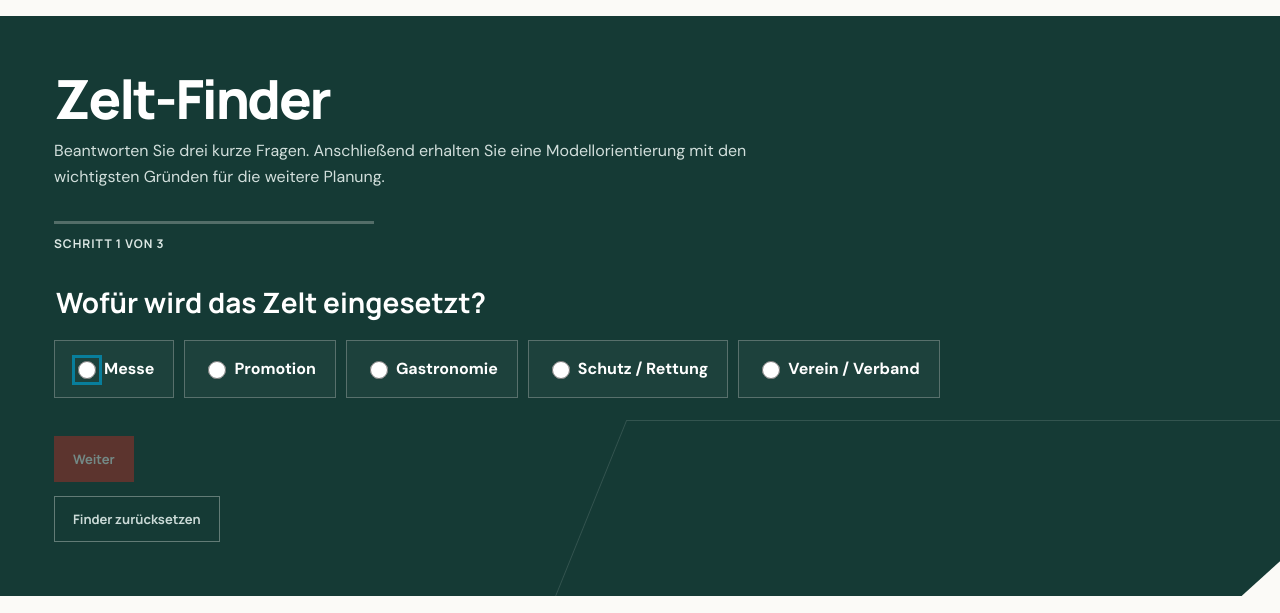
Scenario: TentFinder › nutzt echte Radiogruppen und lässt sich ohne automatisches Weiterschalten per Tastatur bedienen
This screenshot has width=1280, height=613.
Press ArrowDown in the radio button labelled "Messe", box [78,361,96,379]
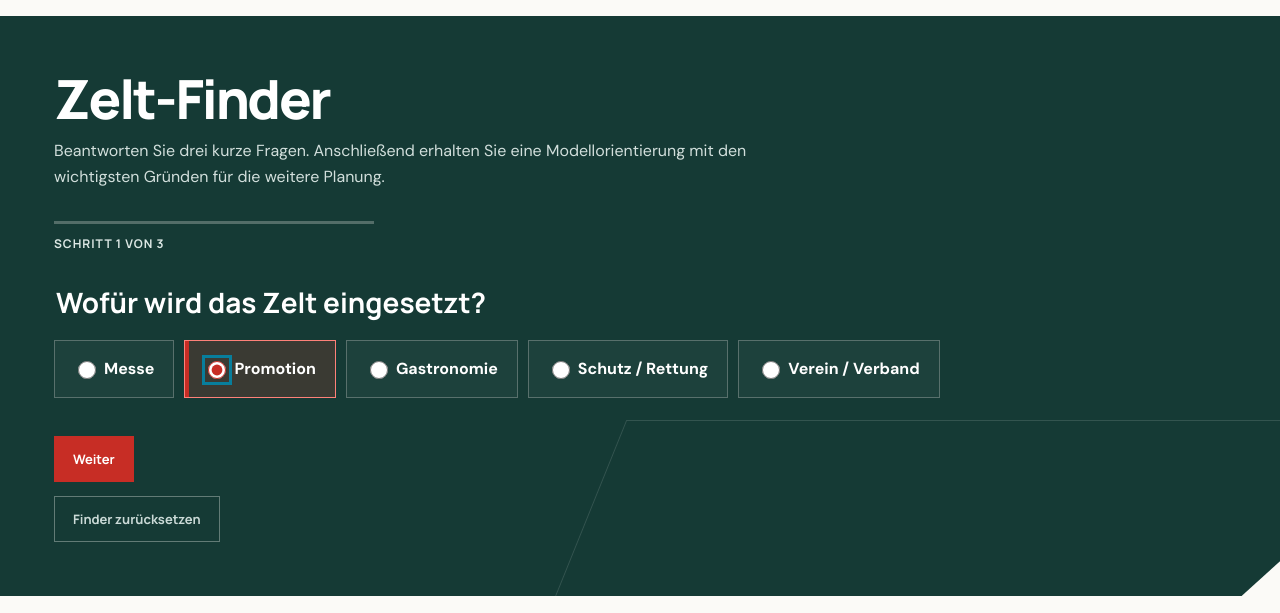
Expected: the text "Schritt 1 von 3" is shown, [54,221,374,252]
Expected: the radio button labelled "Promotion" is checked, [208,361,226,379]
Click the button "Weiter" at point(94, 459), box [54,436,134,482]
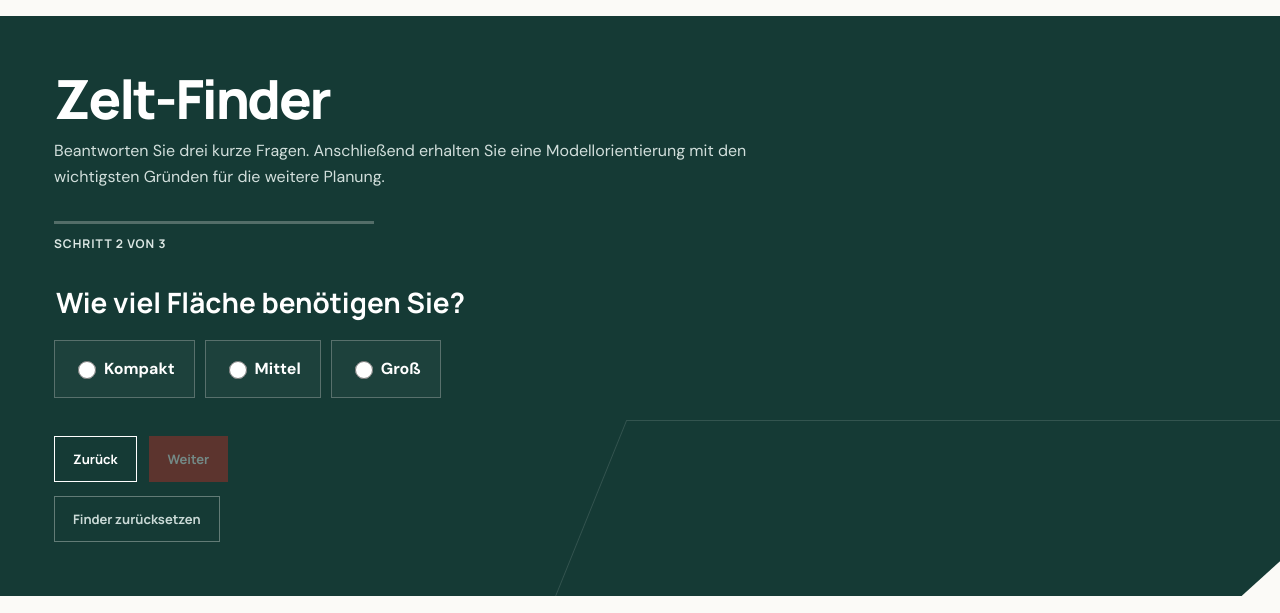
Expected: the element "Wie viel Fläche benötigen Sie? Kompakt Mittel Groß" is shown, [54,283,465,398]
Expected: the text "Schritt 2 von 3" is shown, [54,221,374,252]
